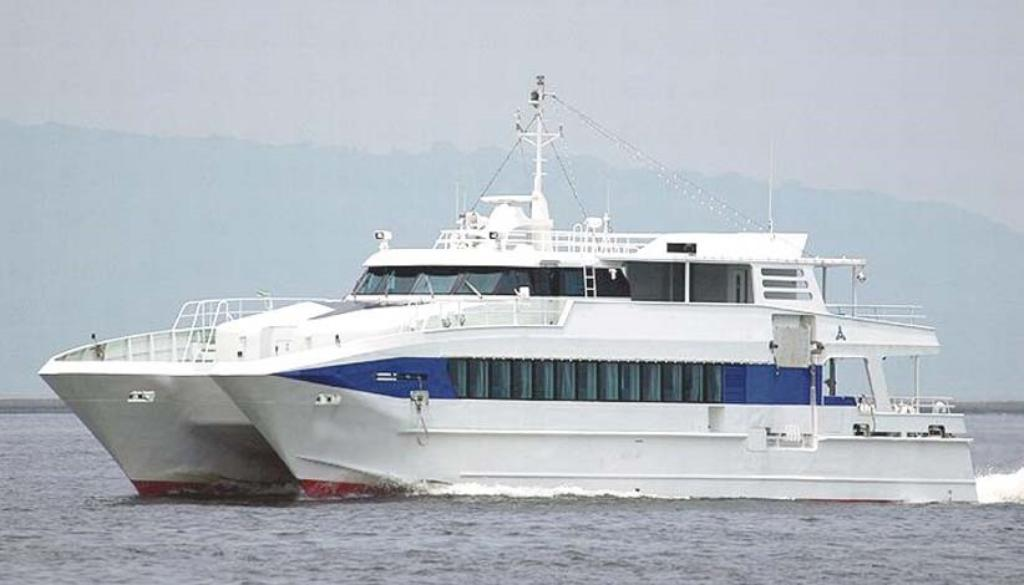PassengerShip: (30, 67, 988, 511)
